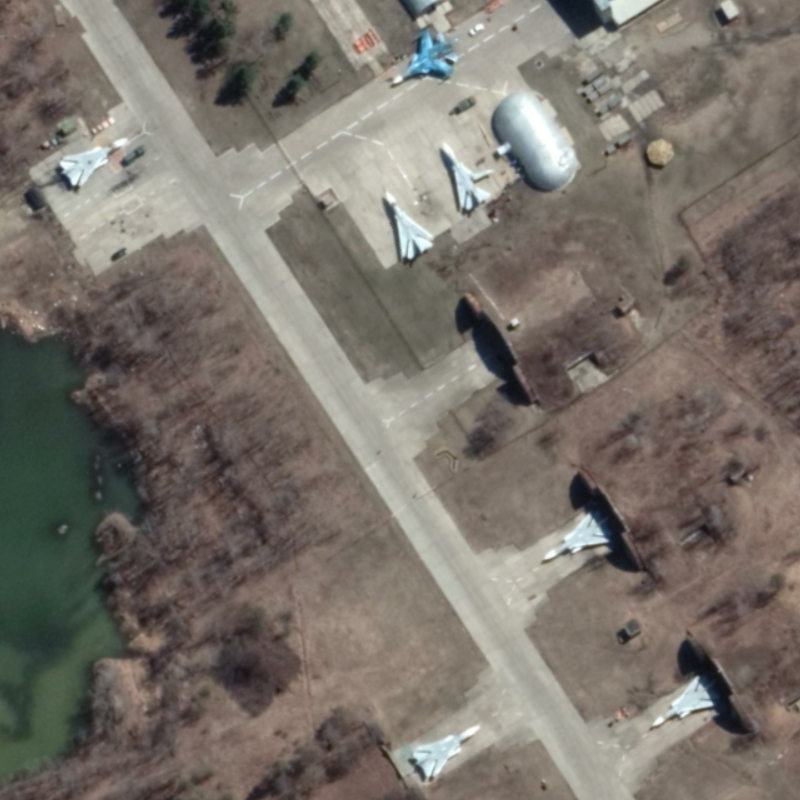A19: (391, 26, 461, 86)
A20: (648, 673, 722, 730), (440, 141, 497, 213), (410, 723, 482, 780), (541, 509, 616, 563), (383, 189, 436, 262), (57, 136, 130, 188)
